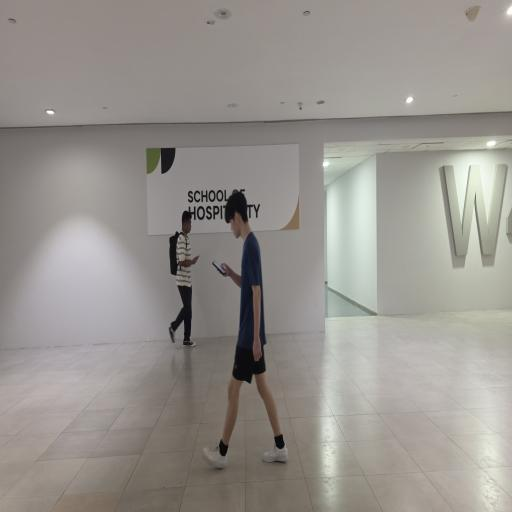person_left: (204, 183, 292, 479)
person_right: (160, 190, 204, 360)
